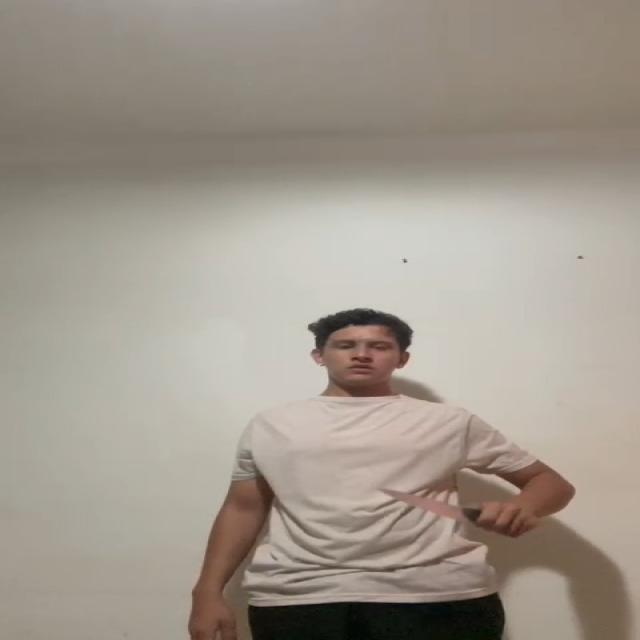knife: (384, 490, 464, 516)
